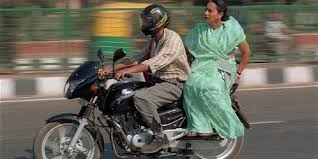helmet: (130, 4, 176, 43)
